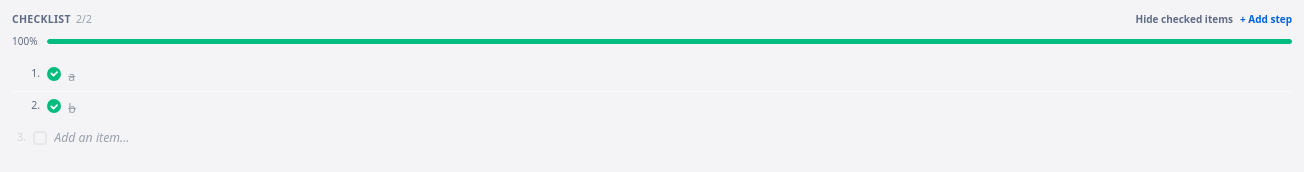
Test case: StepsPanel › explains the empty list when everything is hidden
Expected: the text "a" is shown, [68,68,75,85]
Click the button "Hide checked items" at (1184, 20), box [1136,12,1233,27]
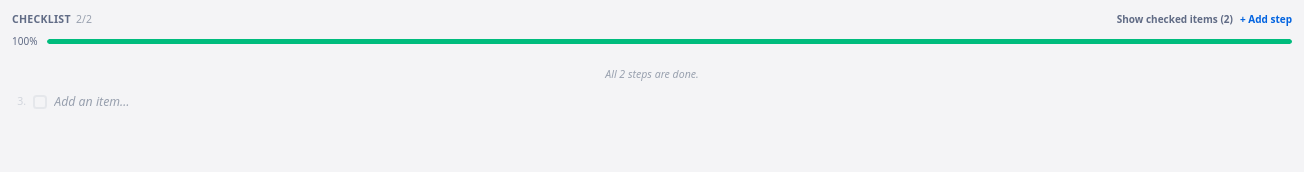
Expected: the text "All 2 steps are done." is shown, [605,67,699,81]
